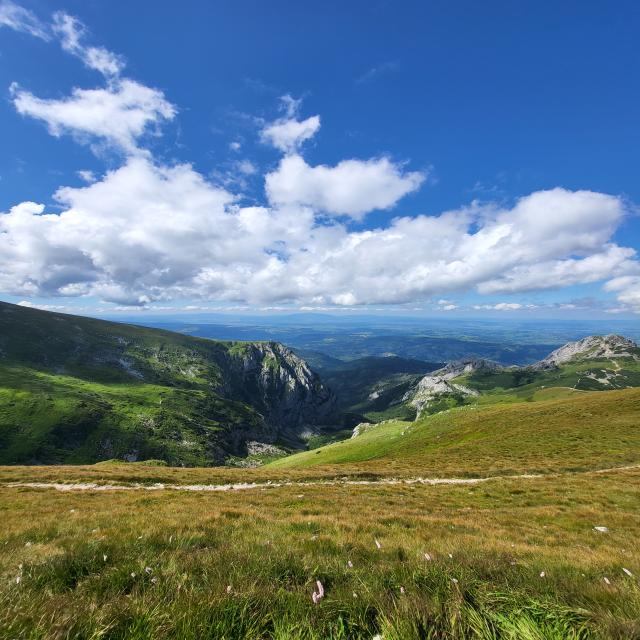Giewont: (574, 309, 640, 364)
Maly giewont: (412, 329, 530, 388)
